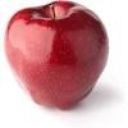apple: (3, 1, 109, 111)
